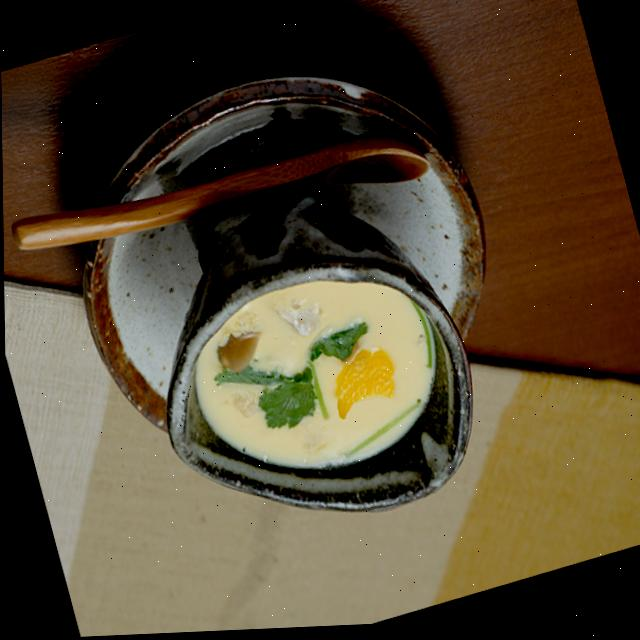鸡蛋料理: (106, 129, 531, 596)
